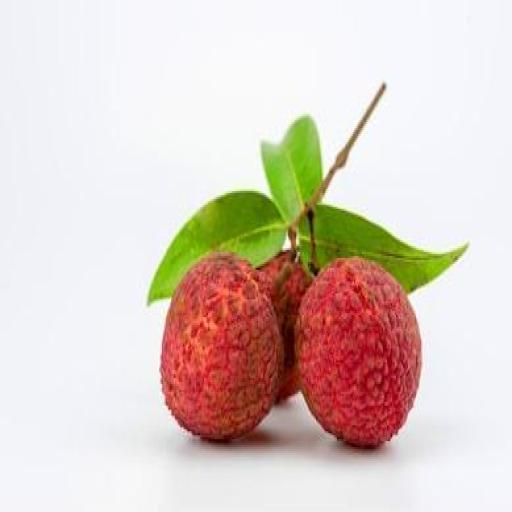lychee: (297, 258, 421, 447), (161, 253, 282, 439), (261, 253, 310, 401)
